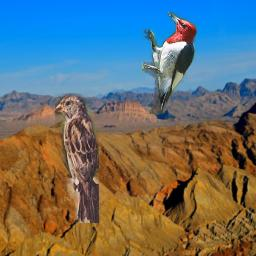Sparrow: (55, 93, 99, 223)
Woodpecker: (142, 12, 197, 114)
